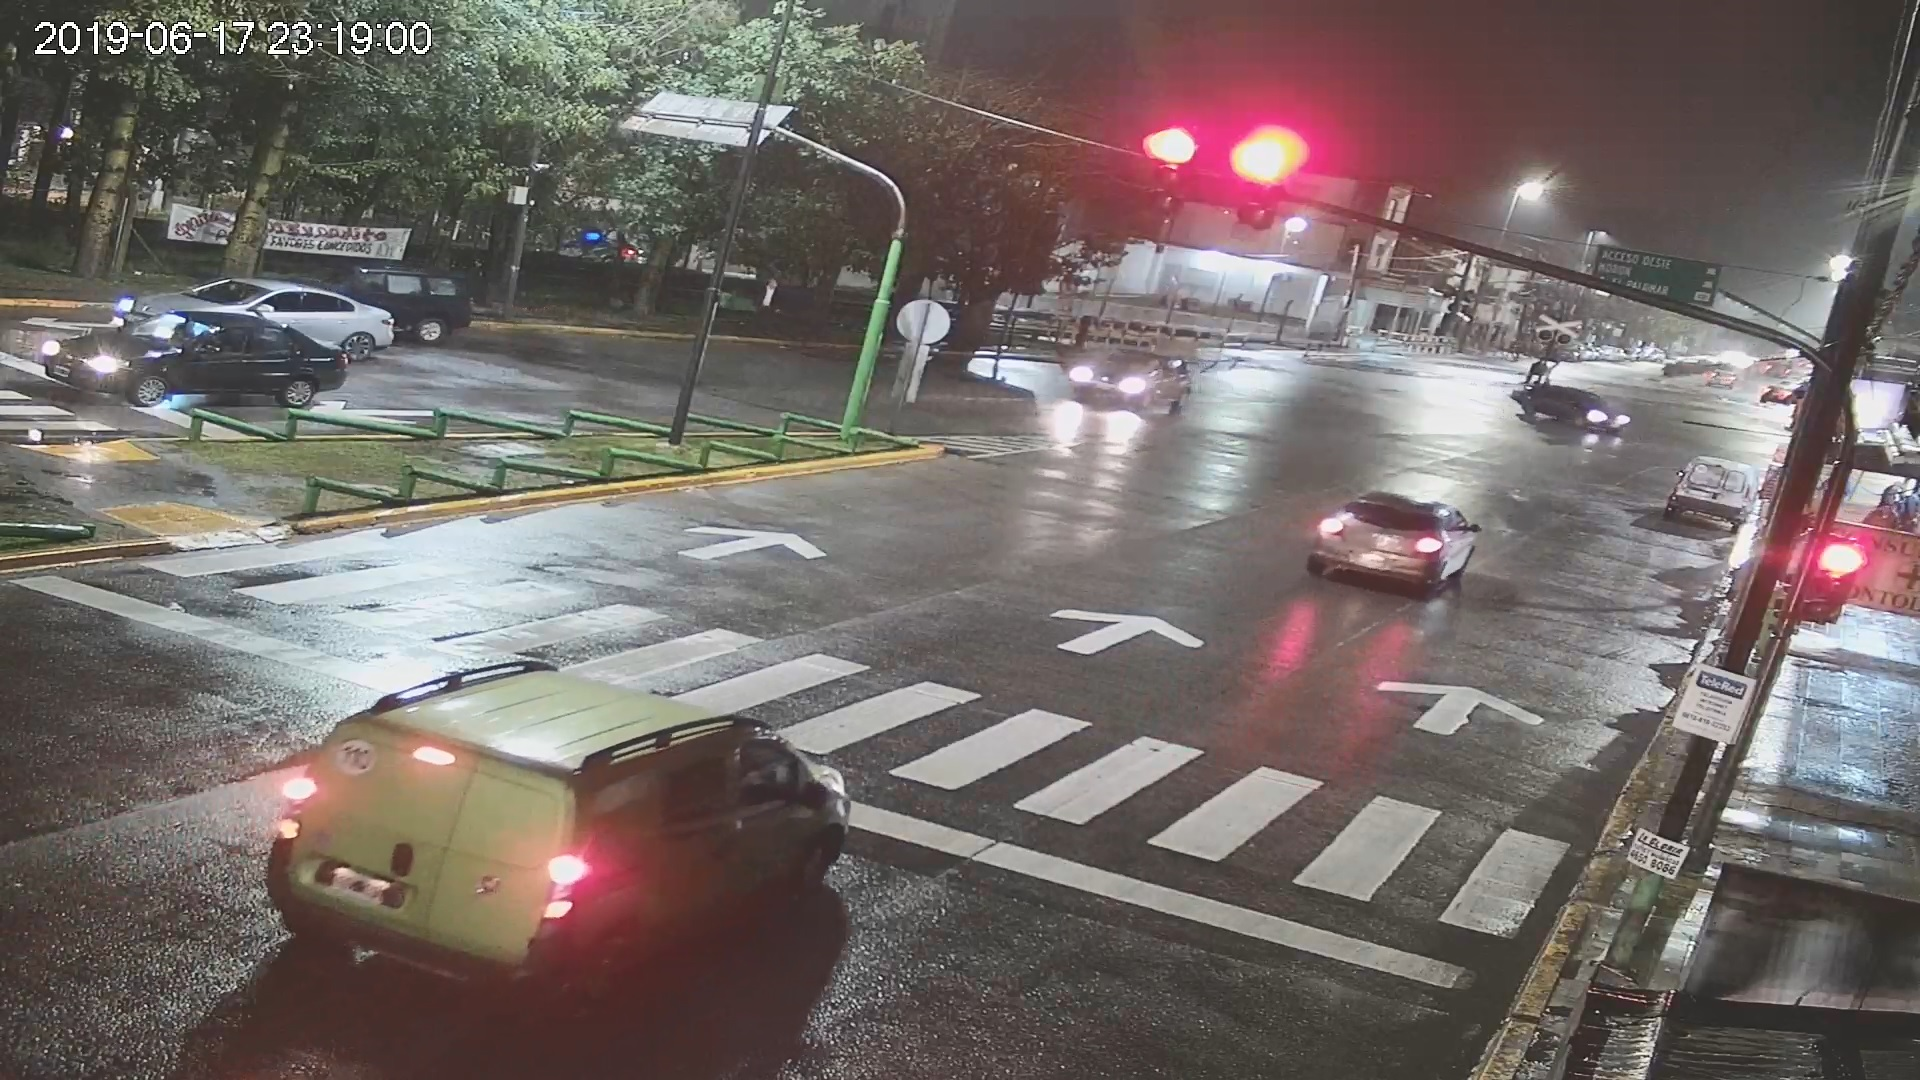car: (264, 630, 862, 1011), (32, 315, 349, 402), (1305, 483, 1485, 600), (1062, 353, 1200, 415), (1510, 378, 1635, 444), (1660, 452, 1756, 534)
